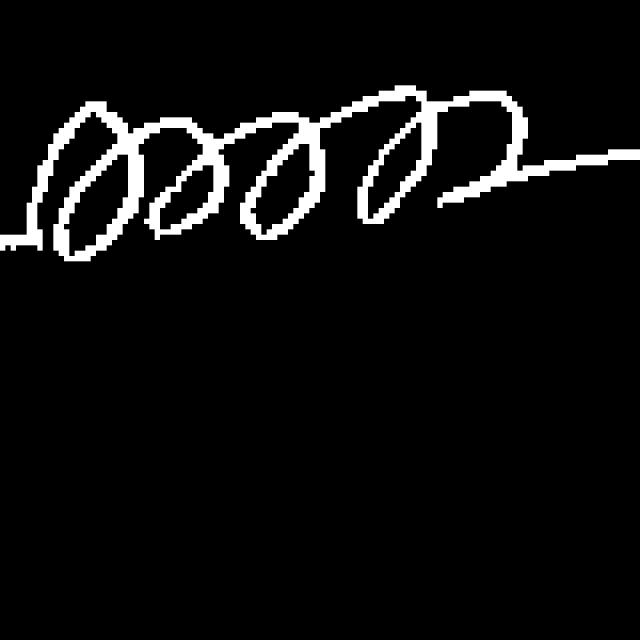inductor: (14, 63, 542, 277)
